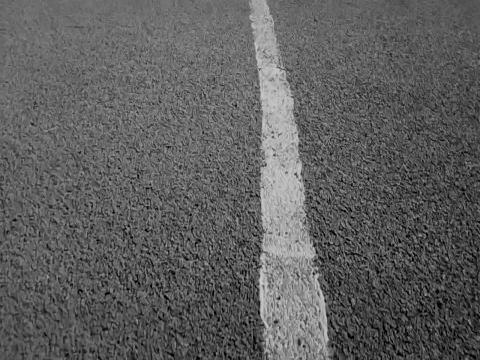Lines: (246, 0, 334, 360)
